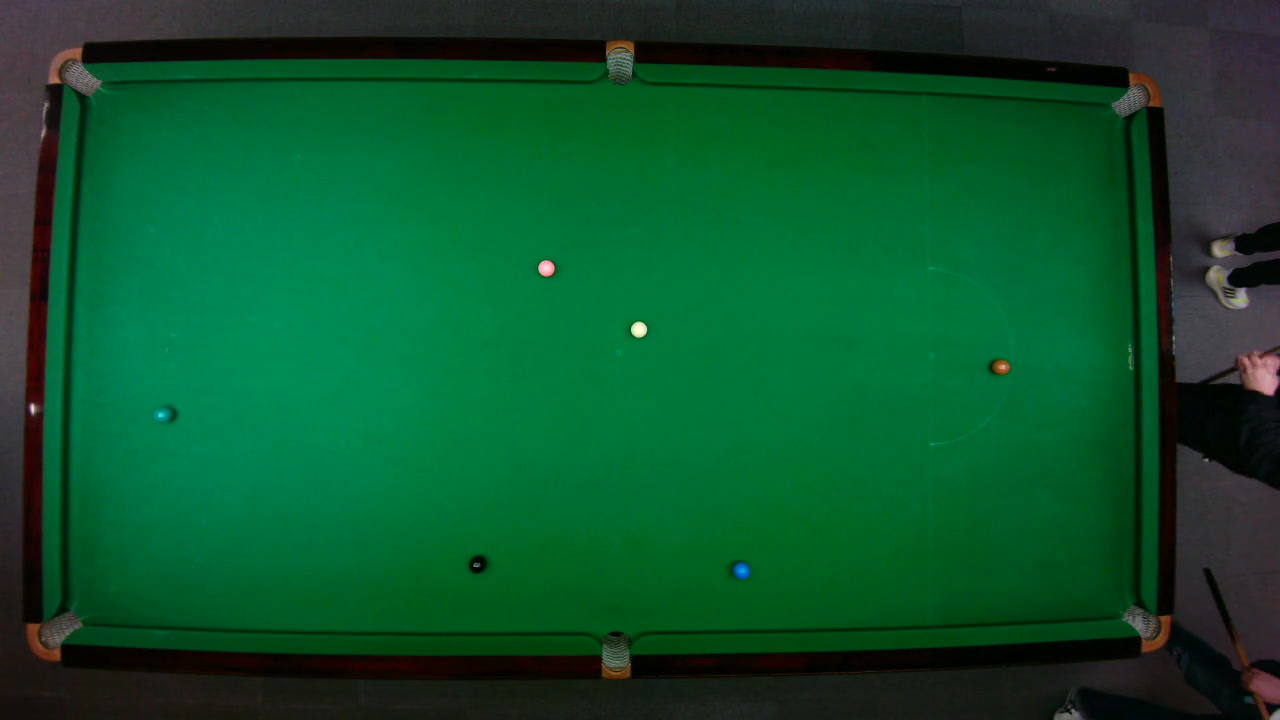bag: (24, 609, 83, 662), (46, 46, 102, 96), (1120, 603, 1171, 651), (1109, 71, 1161, 118), (600, 629, 630, 679), (605, 38, 633, 85)
black: (467, 554, 485, 573)
blue: (731, 560, 750, 579)
brown: (990, 358, 1010, 374)
green: (152, 404, 174, 422)
pink: (536, 258, 555, 277)
white: (628, 320, 648, 338)
zone: (927, 265, 1012, 445)
